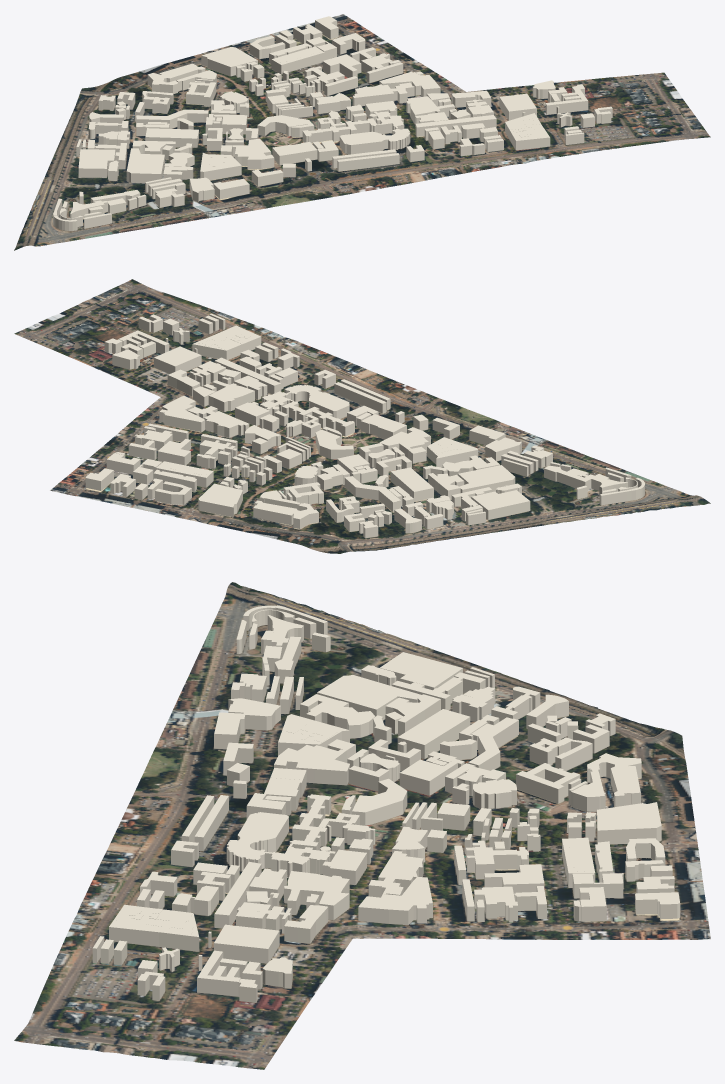
File: 3dmodel.gltf
The picture shows the model from 3 angles, top to bottom: view 1: azimuth 30°, elevation 25°; view 2: azimuth 150°, elevation 25°; view 3: azimuth 270°, elevation 25°; orthographic projection. The views are drawn at different scales.
Parts seen in each view (by area): view 1: Zonal Stats Height Values — zonal_statistics, filledGround; view 2: Zonal Stats Height Values — zonal_statistics, filledGround; view 3: Zonal Stats Height Values — zonal_statistics, filledGround.
Part boxes in pixels (left/top/right/bottom): Zonal Stats Height Values — zonal_statistics: left=53, top=16, right=612, bottom=230; filledGround: left=14, top=14, right=710, bottom=250; Zonal Stats Height Values — zonal_statistics: left=85, top=313, right=644, bottom=537; filledGround: left=14, top=279, right=710, bottom=553; Zonal Stats Height Values — zonal_statistics: left=92, top=605, right=680, bottom=1002; filledGround: left=14, top=582, right=710, bottom=1069.
Size of the model in its own units: 1576 by 51.01 by 923.
Materials: 2 (1 with a texture image).
